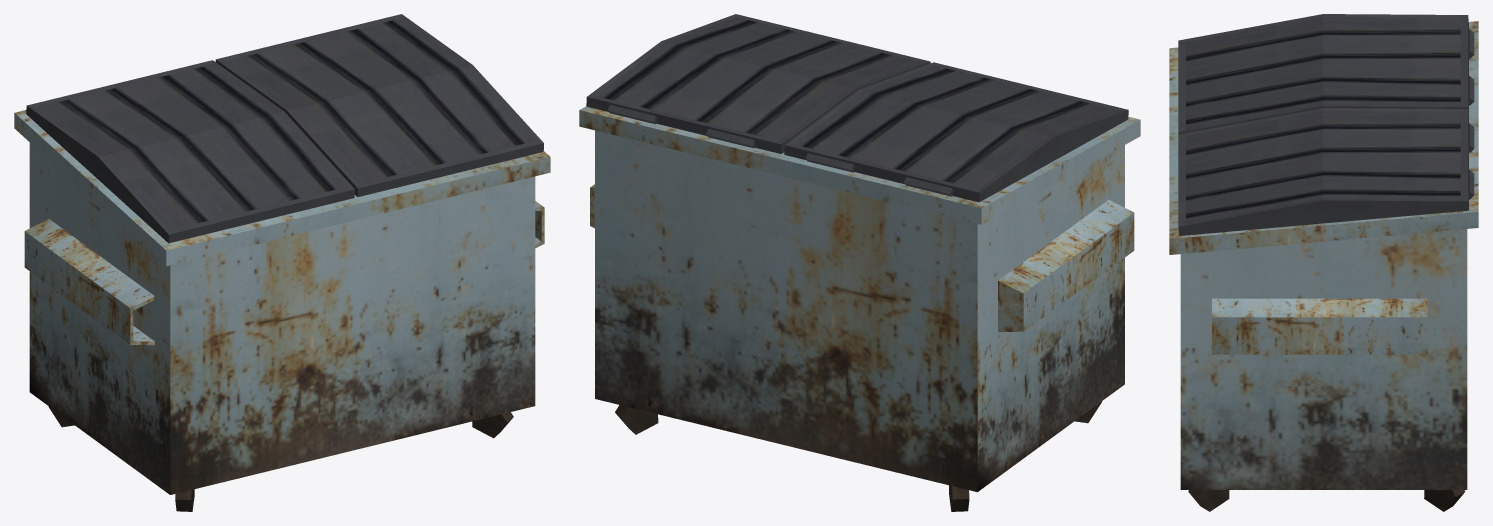
The model's file is Dumpster.fbx.
3 renders of one model, left to right at view 1: azimuth 30°, elevation 25°; view 2: azimuth 150°, elevation 25°; view 3: azimuth 270°, elevation 25°, orthographic. The views are drawn at different scales.
Parts seen in each view (by area): view 1: Dumpster, Cube.035, Cube.034; view 2: Dumpster, Cube.035, Cube.034; view 3: Dumpster, Cube.034, Cube.035.
Part boxes in pixels (left/top/right/bottom): Dumpster: left=14, top=110, right=550, bottom=511; Cube.035: left=26, top=60, right=354, bottom=243; Cube.034: left=215, top=14, right=543, bottom=197; Dumpster: left=579, top=106, right=1140, bottom=511; Cube.035: left=784, top=62, right=1128, bottom=202; Cube.034: left=586, top=14, right=930, bottom=153; Dumpster: left=1169, top=21, right=1478, bottom=511; Cube.034: left=1178, top=108, right=1474, bottom=235; Cube.035: left=1178, top=14, right=1474, bottom=134.
Bounding box in the file's own units: 232 × 171 × 147.
